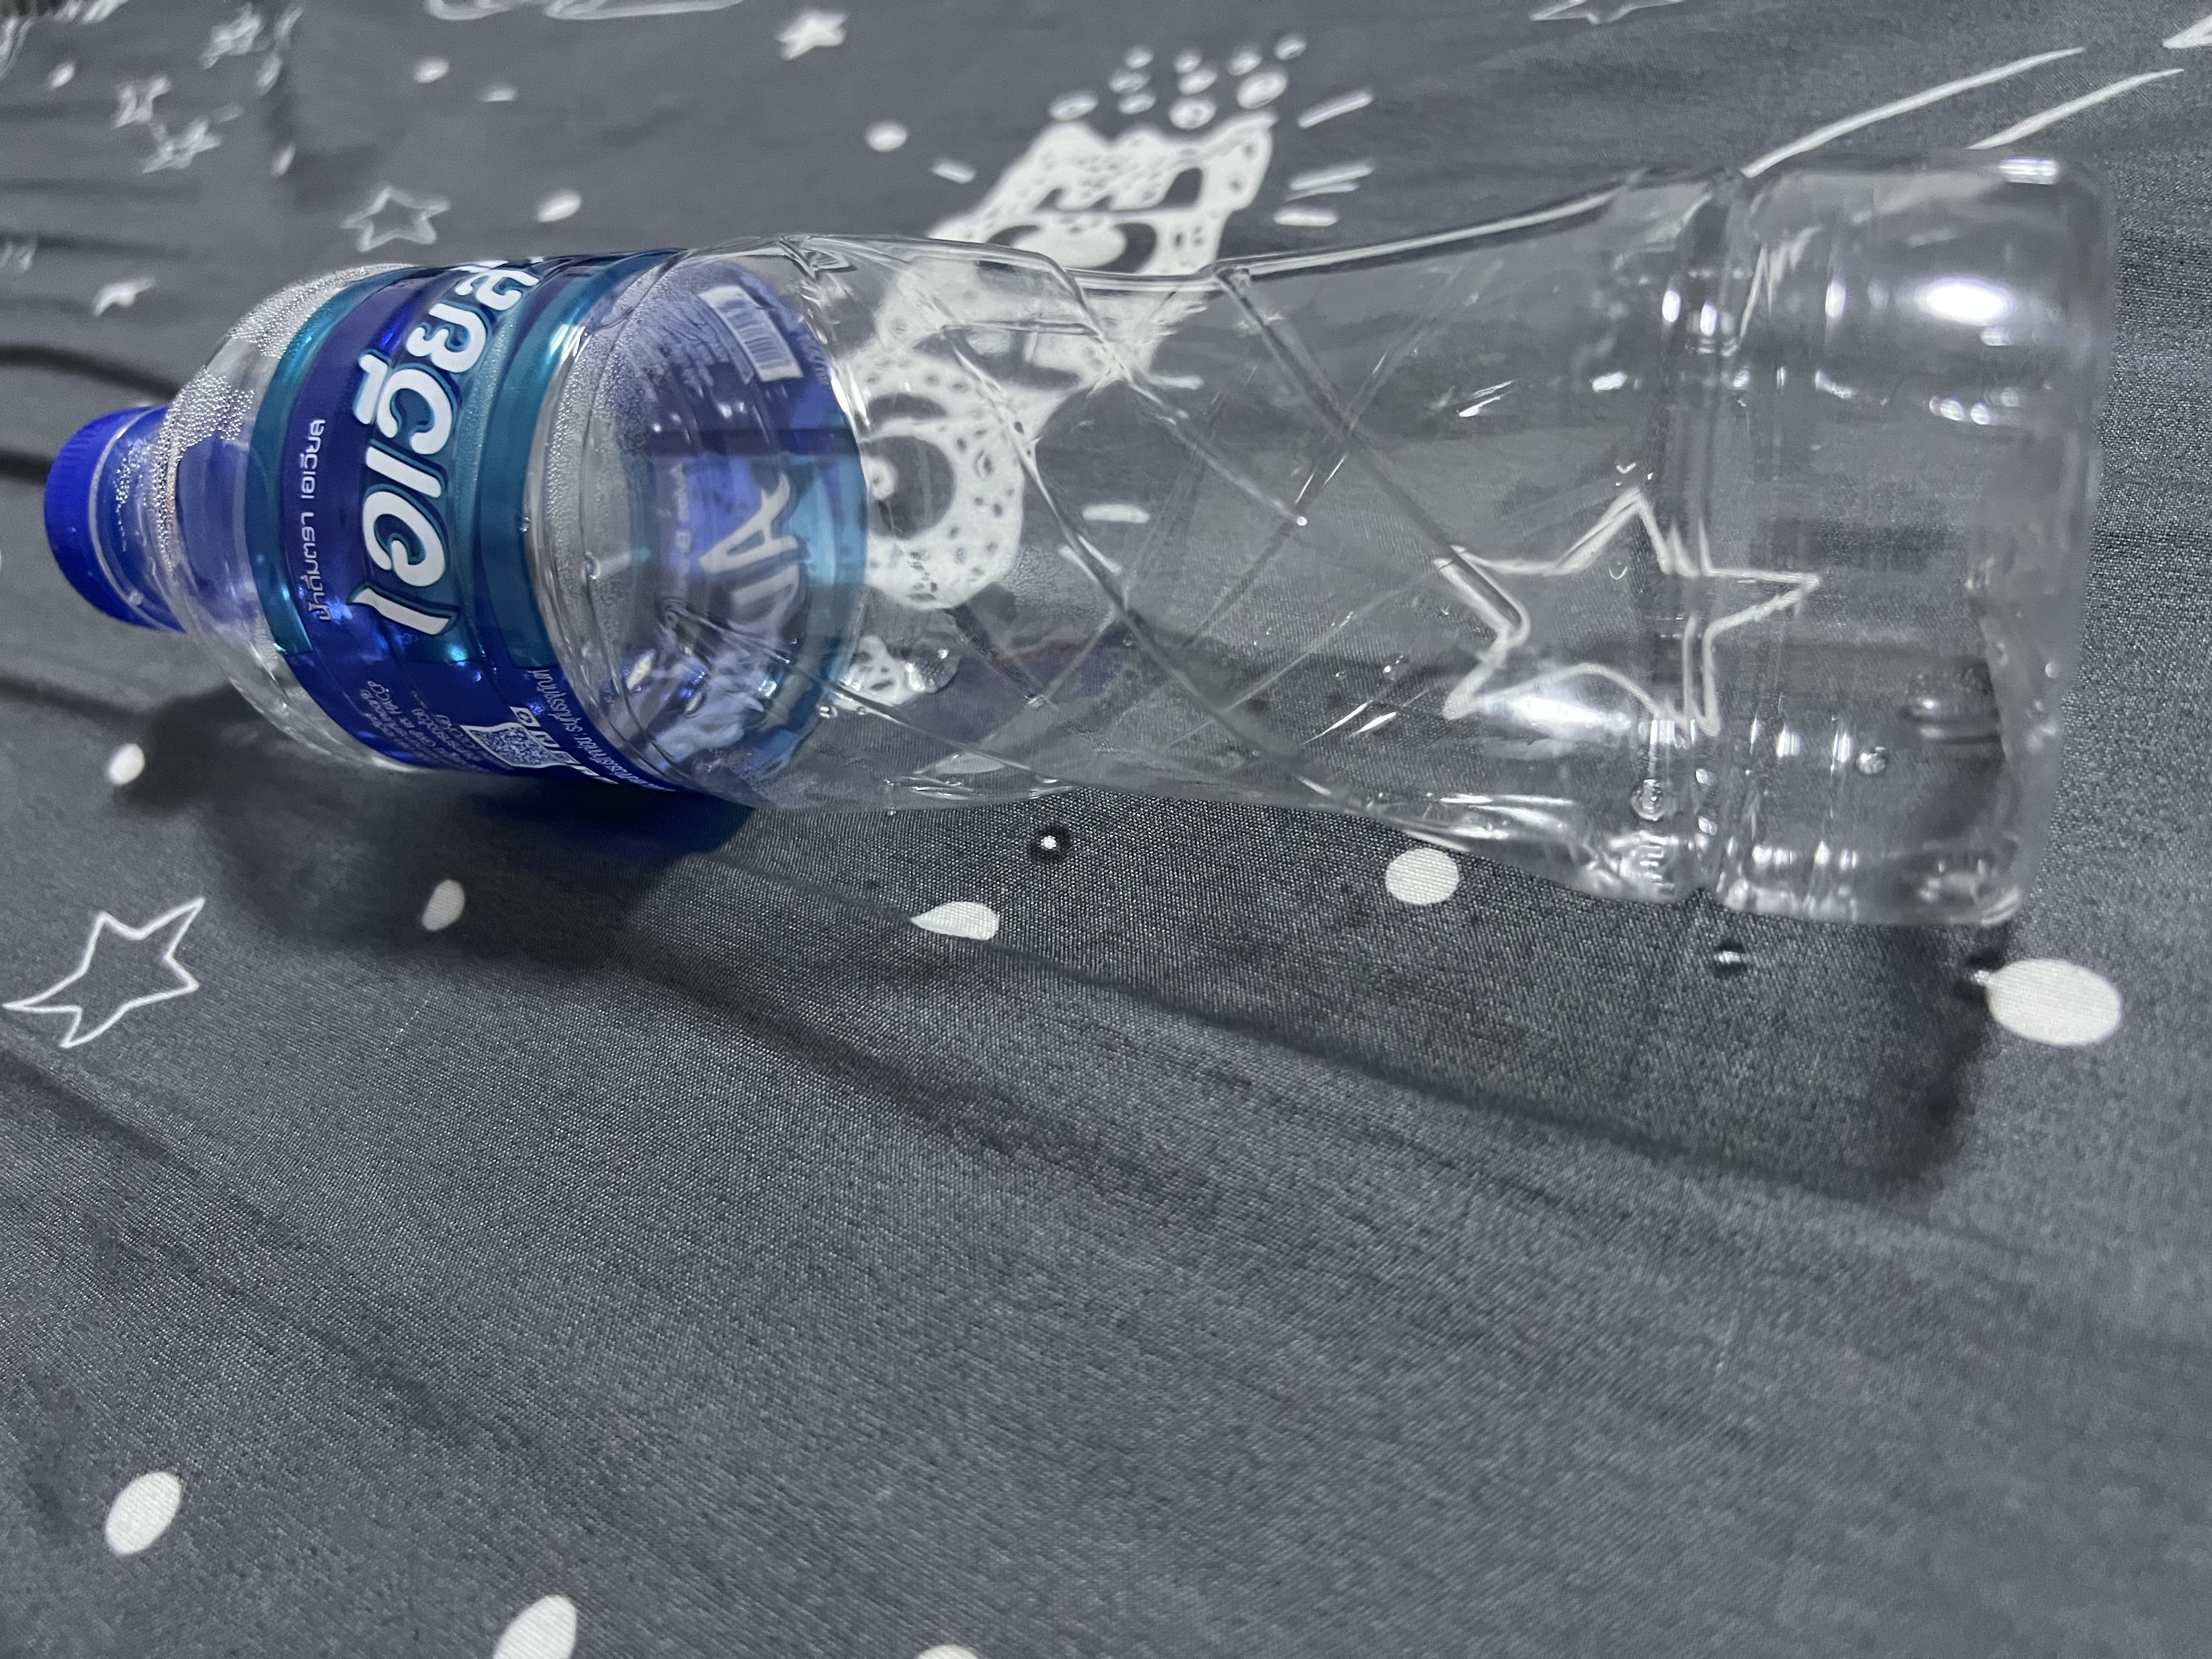plastic_bottle: (12, 200, 2134, 992)
